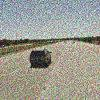cars: (30, 48, 54, 69)
